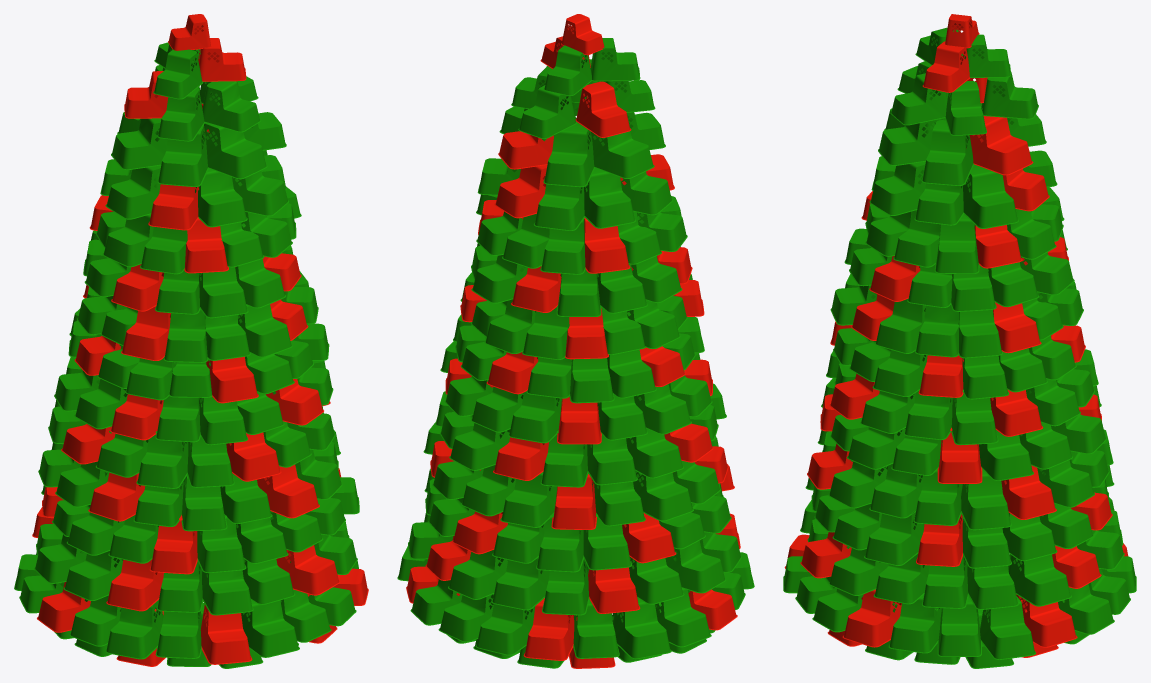
The model's file is XmasTree LP.fbx.
3 renders of one model, left to right at view 1: azimuth 30°, elevation 25°; view 2: azimuth 150°, elevation 25°; view 3: azimuth 270°, elevation 25°, orthographic.
Parts seen in each view (by area): view 1: Cylinder.021; view 2: Cylinder.021; view 3: Cylinder.021.
Boxes of the visible parts, x1,y1,x2,y2 form: Cylinder.021: (14, 14, 368, 668); Cylinder.021: (397, 14, 754, 668); Cylinder.021: (783, 14, 1136, 668).
Size of the model in its own units: 37660 by 69456 by 37852.
